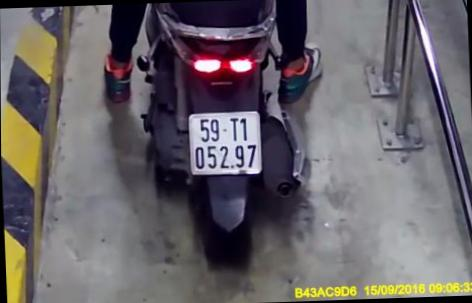LP: (189, 108, 263, 176)
